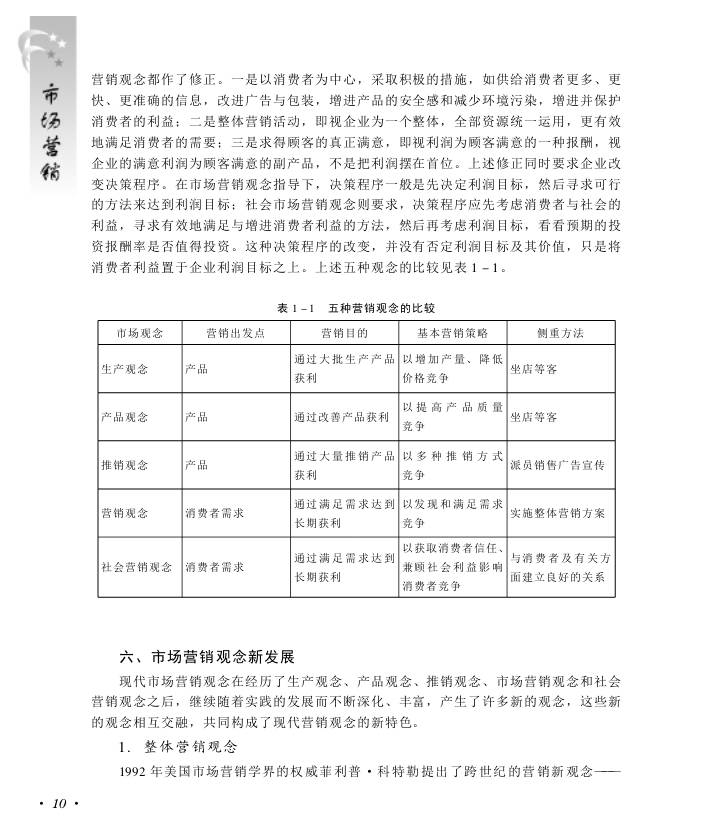table: (96, 320, 616, 598)
